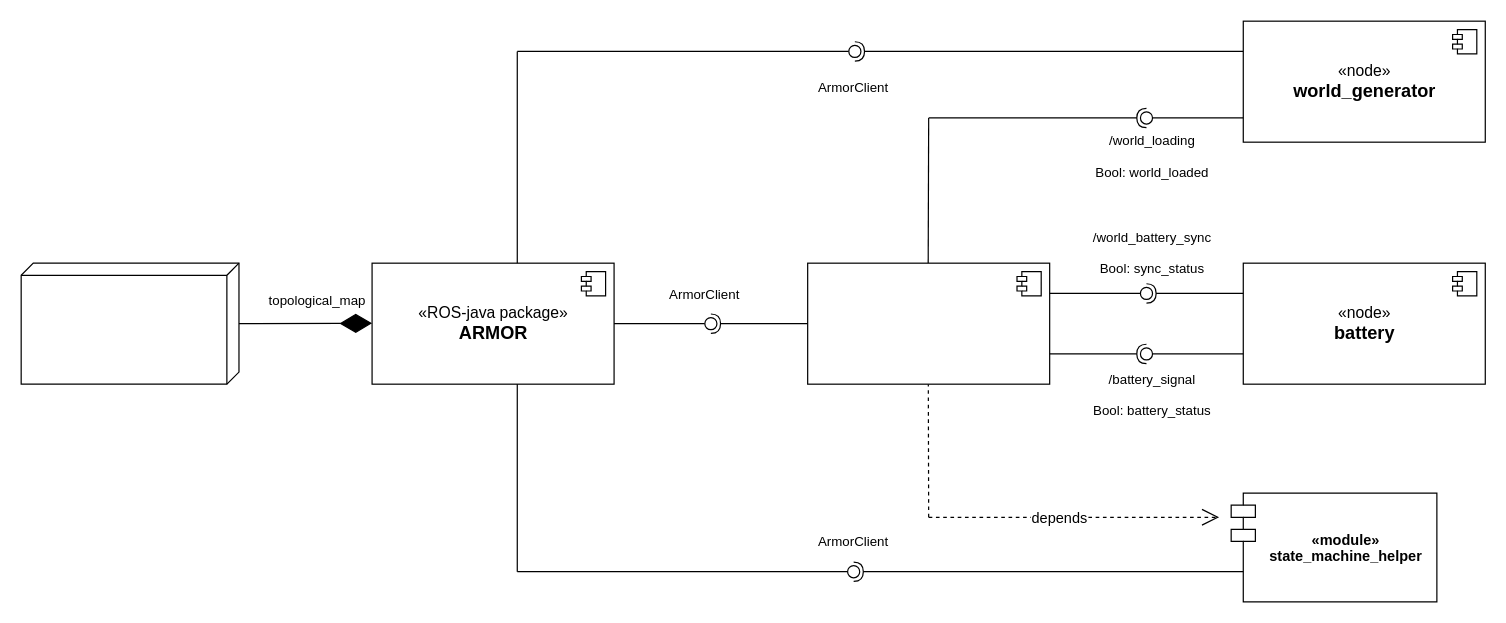
Image size: 1506x623. Some labels were removed from this diagram. Each missing label, with the centre of its shape:
«knowledge base» Ontology: (x=129, y=323)
«node» fsm_behaviour: (x=928, y=323)
